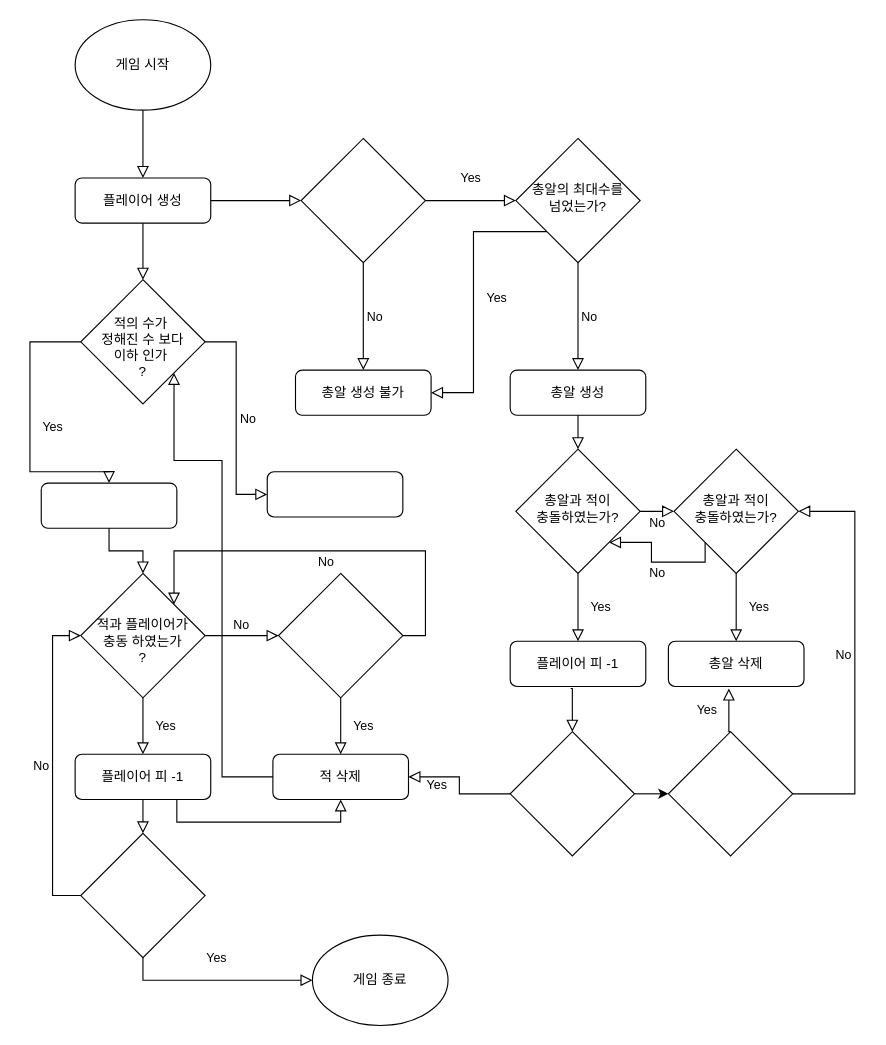
This 886x1045 diagram has some shape labels left out. Each missing label, with the box of its shape:
마우스 클릭을 하였는가?: (300, 137, 425, 263)
적 생성: (40, 482, 177, 528)
적 생성 불가: (266, 471, 403, 517)
적의 HP가 0이 되었는가?: (509, 731, 634, 856)
적이 화면 밖으로 나가였나?: (277, 572, 403, 698)
총알이 화면 밖으로 나갔는가?: (667, 731, 793, 856)
플레이어 피가 0이 되었는가?: (80, 832, 205, 958)
